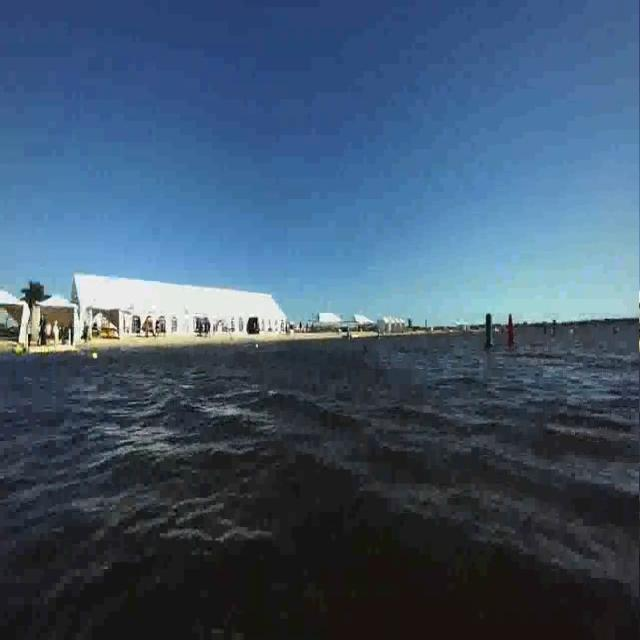green-column-buoy: (483, 310, 496, 349)
red-column-buoy: (504, 312, 516, 348)
